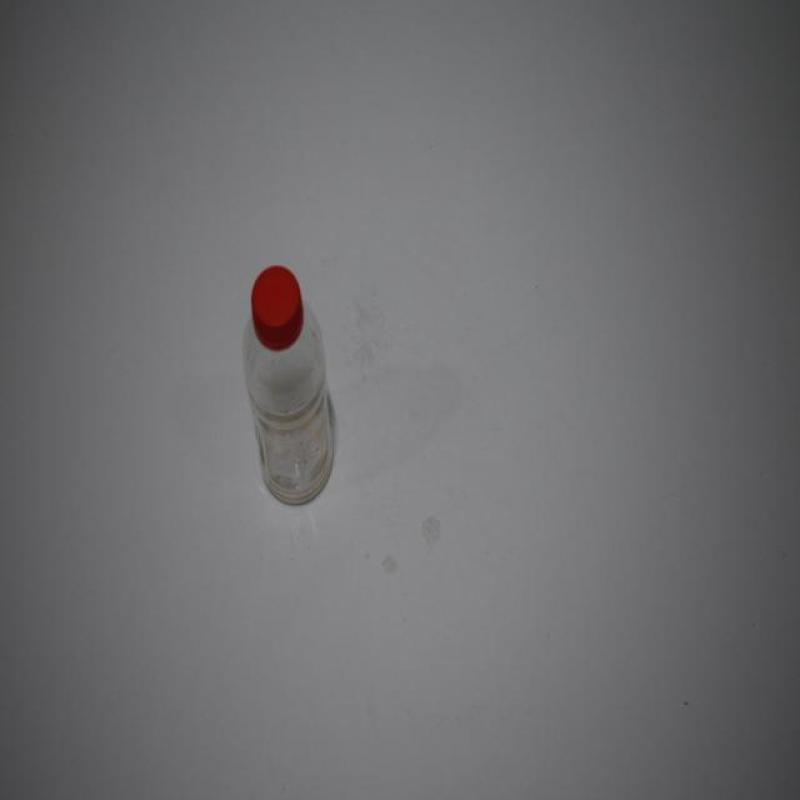botella: (242, 264, 336, 508)
